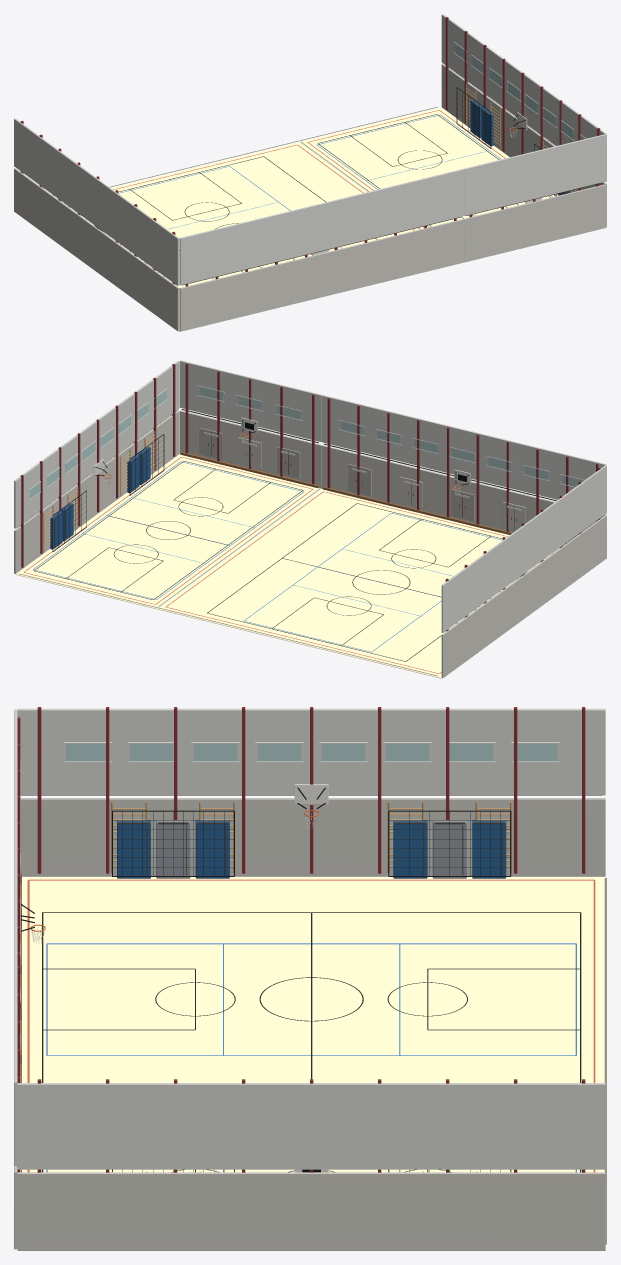
File: Echte_Halle_Komplett_v3_open.glb
3 renders of one model, top to bottom at view 1: azimuth 30°, elevation 25°; view 2: azimuth 150°, elevation 25°; view 3: azimuth 270°, elevation 25°, orthographic. The views are drawn at different scales.
Visible parts, largest first — view 1: v3_complete_grosse_hallenhaelfte_visible_geraeteraum_wall_up, v3_complete_grosse_hallenhaelfte_open_planner_floor_20x20m, v3_complete_grosse_hallenhaelfte_visible_geraeteraum_wall_lo, v3_complete_kleine_hallenhaelfte_open_planner_floor_10x20m, v3_complete_grosse_hallenhaelfte_kept_outer_window_wall_uppe, v3_complete_grosse_hallenhaelfte_kept_outer_window_wall_lowe, v3_complete_kleine_hallenhaelfte_visible_geraeteraum_wall_up, v3_complete_kleine_hallenhaelfte_visible_geraeteraum_wall_lo, v3_complete_kleine_hallenhaelfte_kept_outer_window_wall_uppe, v3_complete_kleine_hallenhaelfte_kept_outer_window_wall_lowe, v3_complete_open_planner_edge_marker; view 2: v3_complete_grosse_hallenhaelfte_open_planner_floor_20x20m, v3_complete_kleine_hallenhaelfte_open_planner_floor_10x20m, v3_complete_grosse_hallenhaelfte_visible_geraeteraum_wall_up, v3_complete_grosse_hallenhaelfte_kept_outer_window_wall_uppe, v3_complete_grosse_hallenhaelfte_kept_outer_window_wall_lowe, v3_complete_kleine_hallenhaelfte_kept_outer_window_wall_uppe, v3_complete_kleine_hallenhaelfte_visible_geraeteraum_wall_up, v3_complete_grosse_hallenhaelfte_visible_geraeteraum_wall_lo, v3_complete_kleine_hallenhaelfte_kept_outer_window_wall_lowe, v3_complete_kleine_hallenhaelfte_visible_geraeteraum_wall_lo, v3_complete_grosse_hallenhaelfte_visible_geraeteraum_wall_st (×4), v3_complete_kleine_hallenhaelfte_visible_geraeteraum_wall_st (×3) (+4 smaller); view 3: v3_complete_grosse_hallenhaelfte_open_planner_floor_20x20m, v3_complete_kleine_hallenhaelfte_kept_outer_window_wall_uppe, v3_complete_grosse_hallenhaelfte_kept_outer_window_wall_uppe, v3_complete_kleine_hallenhaelfte_kept_outer_window_wall_lowe, v3_complete_grosse_hallenhaelfte_kept_outer_window_wall_lowe, v3_complete_grosse_hallenhaelfte_kept_outer_window_wall_high (×8), v3_complete_grosse_hallenhaelfte_long_outer_wall_equipment_u (×3), v3_complete_grosse_hallenhaelfte_long_outer_wall_equipment_l (×3), v3_complete_kleine_hallenhaelfte_open_planner_floor_10x20m, v3_complete_grosse_hallenhaelfte_red_outer_playing_area_left, v3_complete_grosse_hallenhaelfte_blue_volleyball_field_left, v3_complete_grosse_hallenhaelfte_visible_geraeteraum_wall_up (+4 smaller).
Part boxes in pixels (bbox=[...]): v3_complete_grosse_hallenhaelfte_visible_geraeteraum_wall_up: bbox=[179, 169, 464, 285]; v3_complete_grosse_hallenhaelfte_open_planner_floor_20x20m: bbox=[61, 142, 418, 331]; v3_complete_grosse_hallenhaelfte_visible_geraeteraum_wall_lo: bbox=[179, 219, 464, 331]; v3_complete_kleine_hallenhaelfte_open_planner_floor_10x20m: bbox=[300, 107, 558, 229]; v3_complete_grosse_hallenhaelfte_kept_outer_window_wall_uppe: bbox=[14, 118, 179, 285]; v3_complete_grosse_hallenhaelfte_kept_outer_window_wall_lowe: bbox=[14, 168, 179, 331]; v3_complete_kleine_hallenhaelfte_visible_geraeteraum_wall_up: bbox=[464, 134, 606, 215]; v3_complete_kleine_hallenhaelfte_visible_geraeteraum_wall_lo: bbox=[464, 184, 606, 262]; v3_complete_kleine_hallenhaelfte_kept_outer_window_wall_uppe: bbox=[441, 14, 606, 181]; v3_complete_kleine_hallenhaelfte_kept_outer_window_wall_lowe: bbox=[441, 64, 606, 226]; v3_complete_open_planner_edge_marker: bbox=[110, 107, 437, 187]; v3_complete_grosse_hallenhaelfte_open_planner_floor_20x20m: bbox=[157, 489, 559, 678]; v3_complete_kleine_hallenhaelfte_open_planner_floor_10x20m: bbox=[15, 454, 320, 609]; v3_complete_grosse_hallenhaelfte_visible_geraeteraum_wall_up: bbox=[321, 395, 606, 499]; v3_complete_grosse_hallenhaelfte_kept_outer_window_wall_uppe: bbox=[441, 465, 606, 632]; v3_complete_grosse_hallenhaelfte_kept_outer_window_wall_lowe: bbox=[441, 515, 606, 678]; v3_complete_kleine_hallenhaelfte_kept_outer_window_wall_uppe: bbox=[14, 361, 179, 528]; v3_complete_kleine_hallenhaelfte_visible_geraeteraum_wall_up: bbox=[179, 360, 321, 441]; v3_complete_grosse_hallenhaelfte_visible_geraeteraum_wall_lo: bbox=[321, 445, 606, 544]; v3_complete_kleine_hallenhaelfte_kept_outer_window_wall_lowe: bbox=[14, 411, 179, 573]; v3_complete_kleine_hallenhaelfte_visible_geraeteraum_wall_lo: bbox=[179, 410, 321, 488]; v3_complete_grosse_hallenhaelfte_visible_geraeteraum_wall_st (×4): bbox=[348, 464, 525, 531]; v3_complete_kleine_hallenhaelfte_visible_geraeteraum_wall_st (×3): bbox=[199, 428, 300, 478]; v3_complete_grosse_hallenhaelfte_open_planner_floor_20x20m: bbox=[22, 877, 605, 1082]; v3_complete_kleine_hallenhaelfte_kept_outer_window_wall_uppe: bbox=[17, 1083, 605, 1169]; v3_complete_grosse_hallenhaelfte_kept_outer_window_wall_uppe: bbox=[17, 708, 605, 795]; v3_complete_kleine_hallenhaelfte_kept_outer_window_wall_lowe: bbox=[17, 1172, 605, 1250]; v3_complete_grosse_hallenhaelfte_kept_outer_window_wall_lowe: bbox=[20, 798, 605, 876]; v3_complete_grosse_hallenhaelfte_kept_outer_window_wall_high (×8): bbox=[66, 743, 557, 761]; v3_complete_grosse_hallenhaelfte_long_outer_wall_equipment_u (×3): bbox=[393, 820, 506, 878]; v3_complete_grosse_hallenhaelfte_long_outer_wall_equipment_l (×3): bbox=[117, 820, 229, 878]; v3_complete_kleine_hallenhaelfte_open_planner_floor_10x20m: bbox=[22, 1169, 604, 1172]; v3_complete_grosse_hallenhaelfte_red_outer_playing_area_left: bbox=[29, 879, 594, 880]; v3_complete_grosse_hallenhaelfte_blue_volleyball_field_left: bbox=[47, 943, 575, 944]; v3_complete_grosse_hallenhaelfte_visible_geraeteraum_wall_up: bbox=[14, 709, 17, 957].
Size of the model in its own units: 30.24 by 6.41 by 20.16.
